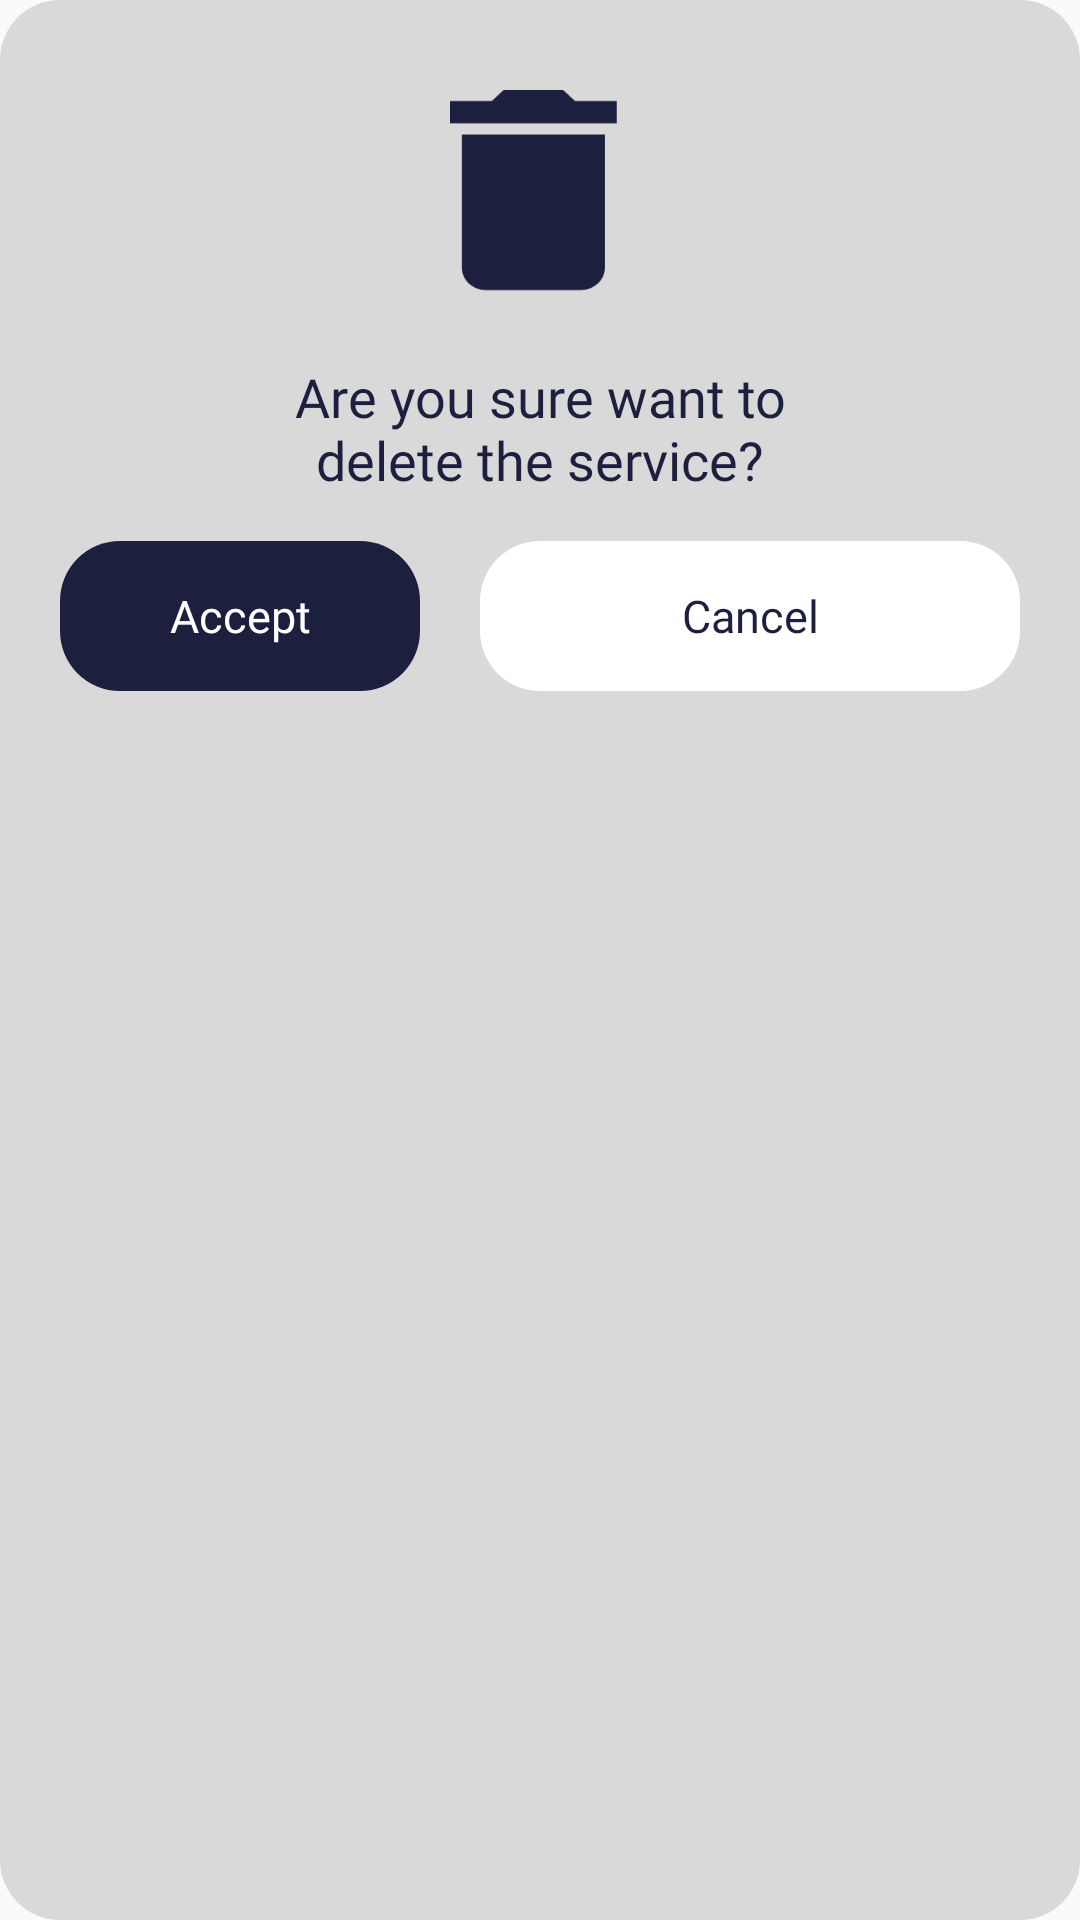

Named icons in this screenshot (1080×1920) and their centers, (x=x, y=y):
papelera: (x=533, y=190)
